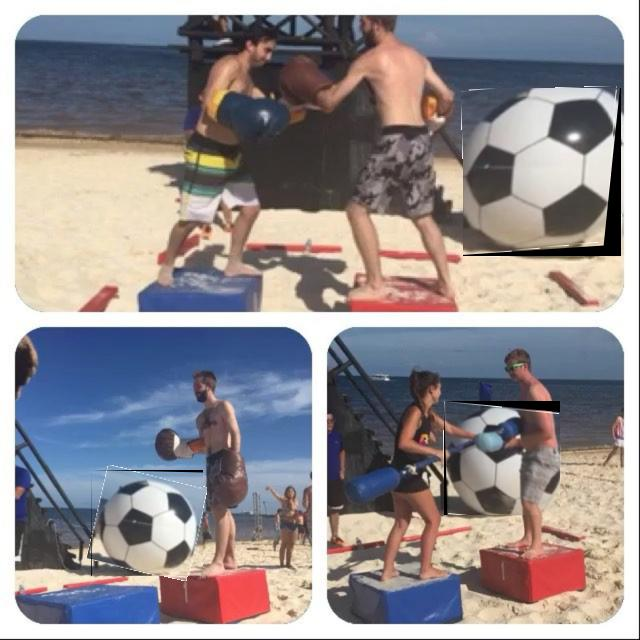Football: (463, 88, 621, 256), (444, 401, 560, 515), (91, 470, 203, 576)
